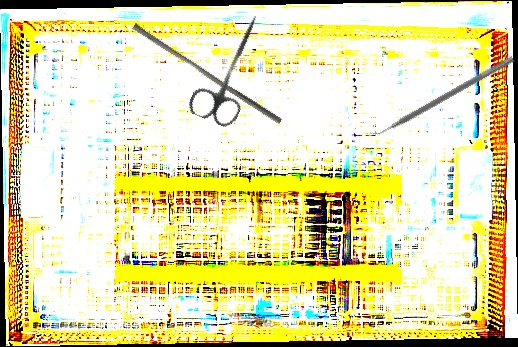Iris Scissors: (185, 5, 277, 131)
Pusher: (129, 22, 286, 125)
Spatula Surgical: (367, 49, 515, 143)
